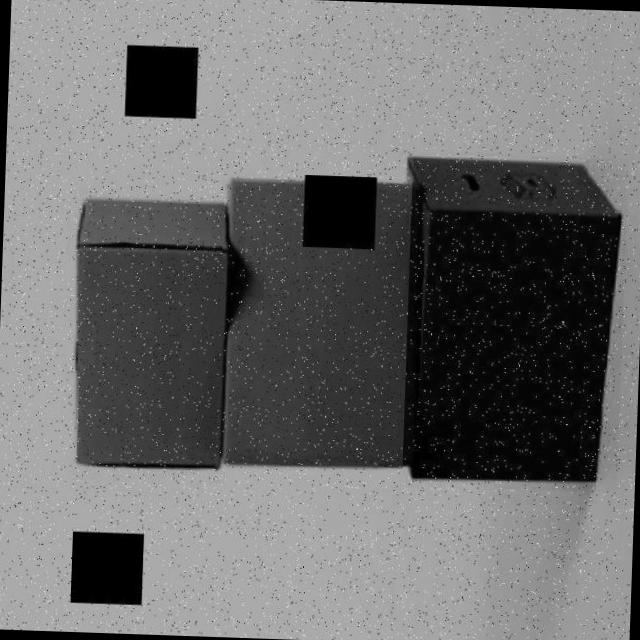box: (401, 151, 628, 492), (214, 168, 429, 480), (62, 190, 232, 478)
